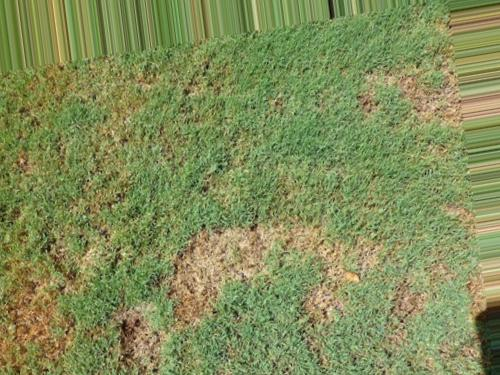patch: (77, 121, 172, 182), (49, 196, 119, 267), (233, 201, 304, 259), (327, 222, 375, 291), (111, 297, 167, 352), (170, 240, 223, 292), (390, 68, 445, 116), (102, 75, 187, 106), (397, 246, 435, 302), (433, 200, 463, 235)
